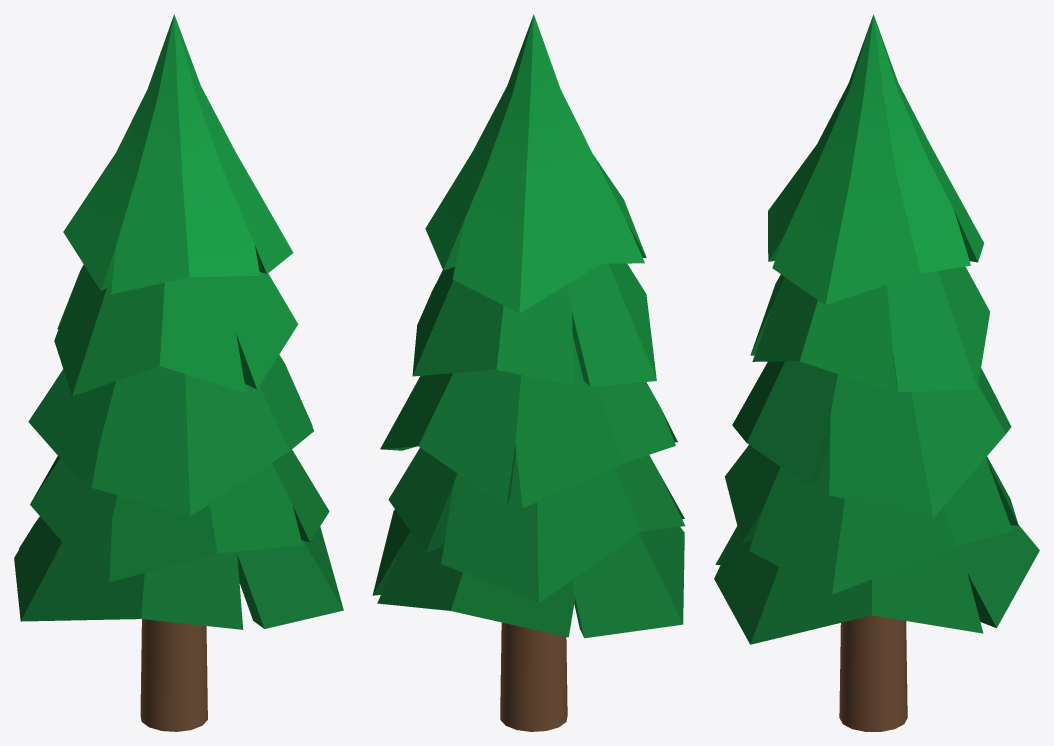
The model's file is Spruce_DarkGreen_Thin_3.fbx.
3 views of the same model, side by side, from view 1: azimuth 30°, elevation 25°; view 2: azimuth 150°, elevation 25°; view 3: azimuth 270°, elevation 25° (orthographic).
Parts seen in each view (by area): view 1: Cylinder.070, Cylinder.069, Cylinder.068, Cylinder.066, Cylinder.067, Cylinder.065; view 2: Cylinder.070, Cylinder.069, Cylinder.067, Cylinder.068, Cylinder.066, Cylinder.065; view 3: Cylinder.070, Cylinder.069, Cylinder.067, Cylinder.068, Cylinder.066, Cylinder.065.
Part boxes in pixels (bbox=[...]): Cylinder.070: bbox=[63, 14, 293, 294]; Cylinder.069: bbox=[28, 354, 313, 516]; Cylinder.068: bbox=[54, 264, 298, 396]; Cylinder.066: bbox=[14, 516, 343, 629]; Cylinder.067: bbox=[30, 449, 329, 582]; Cylinder.065: bbox=[140, 619, 207, 731]; Cylinder.070: bbox=[425, 14, 646, 313]; Cylinder.069: bbox=[380, 336, 677, 508]; Cylinder.067: bbox=[388, 447, 685, 602]; Cylinder.068: bbox=[412, 263, 656, 386]; Cylinder.066: bbox=[372, 509, 684, 638]; Cylinder.065: bbox=[500, 622, 567, 731]; Cylinder.070: bbox=[768, 14, 984, 304]; Cylinder.069: bbox=[732, 355, 1011, 518]; Cylinder.067: bbox=[725, 440, 1018, 594]; Cylinder.068: bbox=[750, 266, 989, 392]; Cylinder.066: bbox=[714, 525, 1039, 644]; Cylinder.065: bbox=[839, 615, 907, 731].
Bounding box in the file's own units: 247 × 567 × 238.
